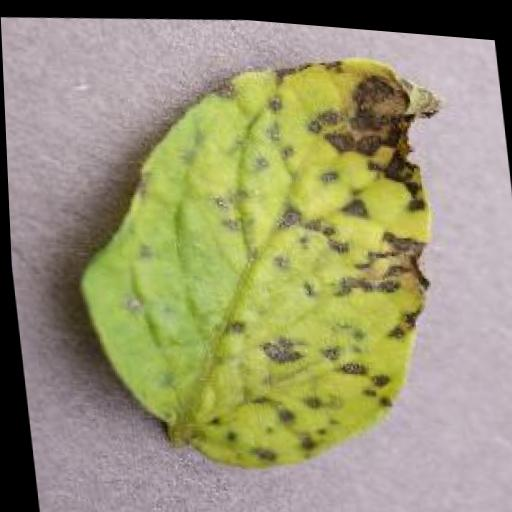Septoria: (54, 27, 482, 492)
